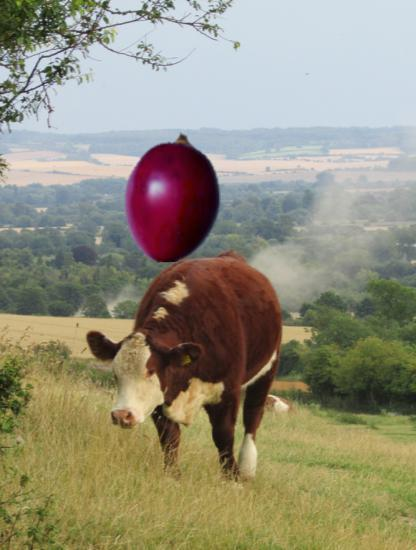Tamarillo: (107, 132, 238, 263)
